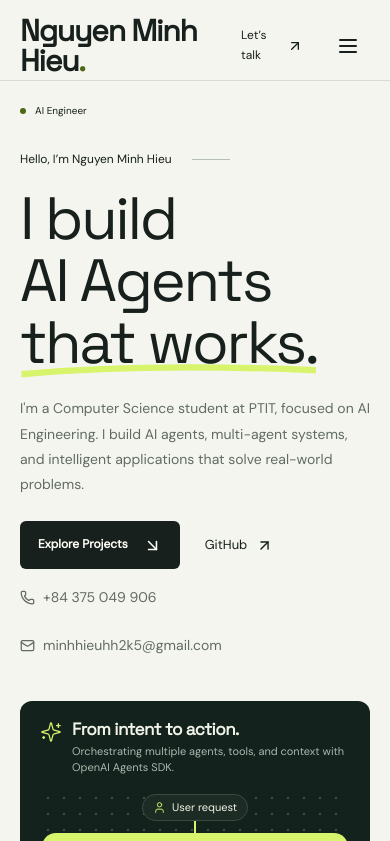
it: portfolio journeys › opens and dismisses the mobile menu with Escape
The image size is (390, 841).
Click the button named "Open navigation": (348, 46) [326,24,370,68]
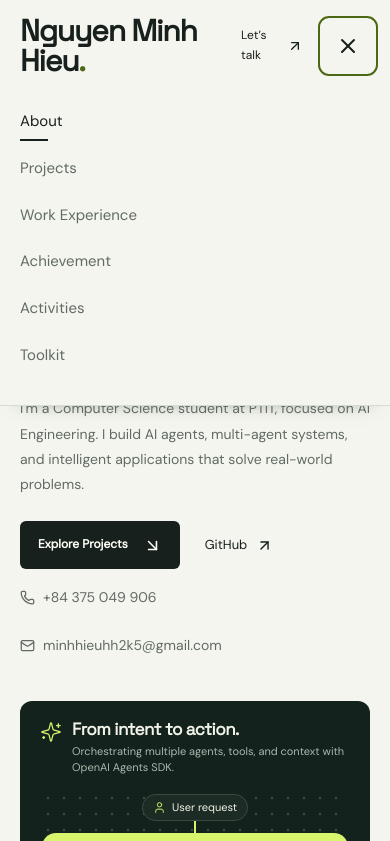
Expected: the button named "Open navigation" is expanded, [326,24,370,68]
Press Escape
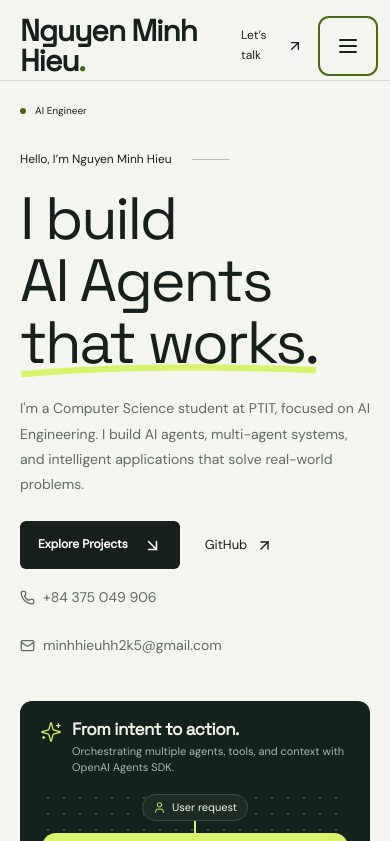
Expected: the button named "Open navigation" is collapsed, [326,24,370,68]
